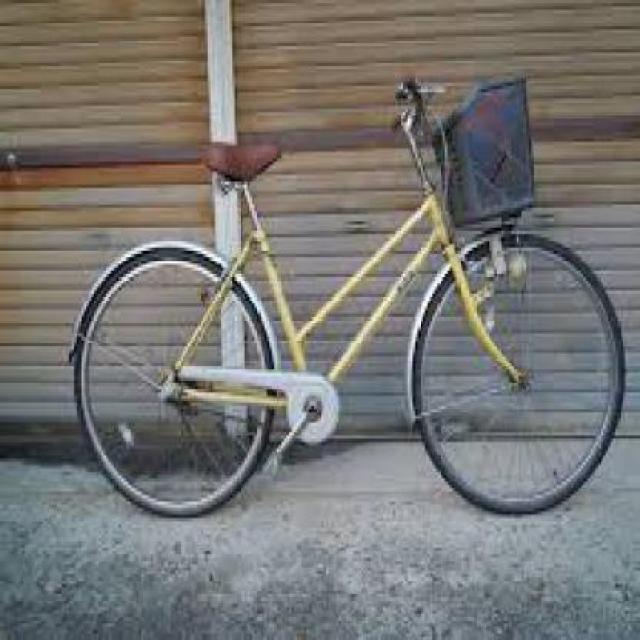bicycle: (48, 67, 628, 543)
